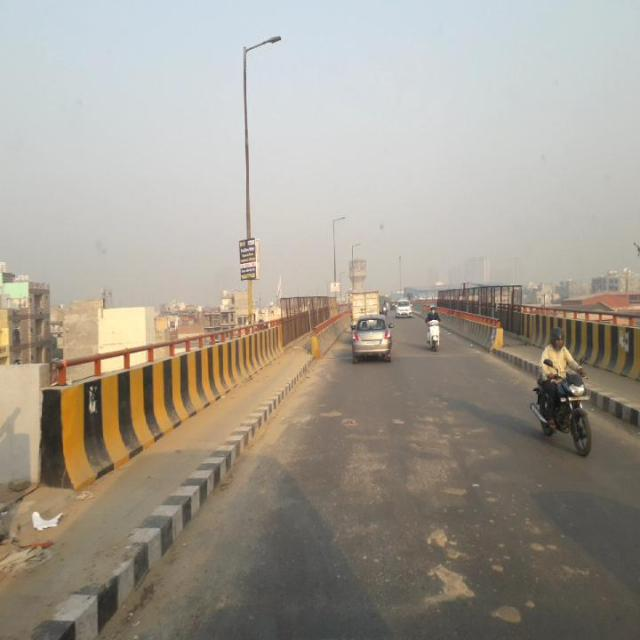Surface Erosion: (325, 381, 583, 640)
